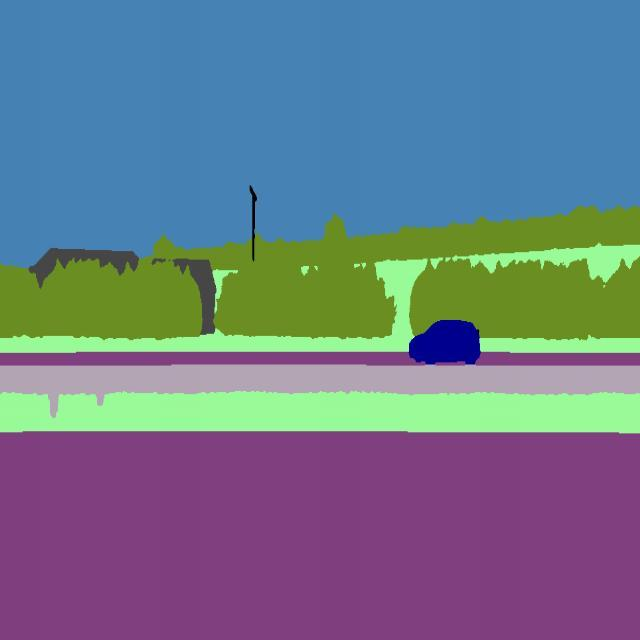safe: (407, 316, 484, 368)
